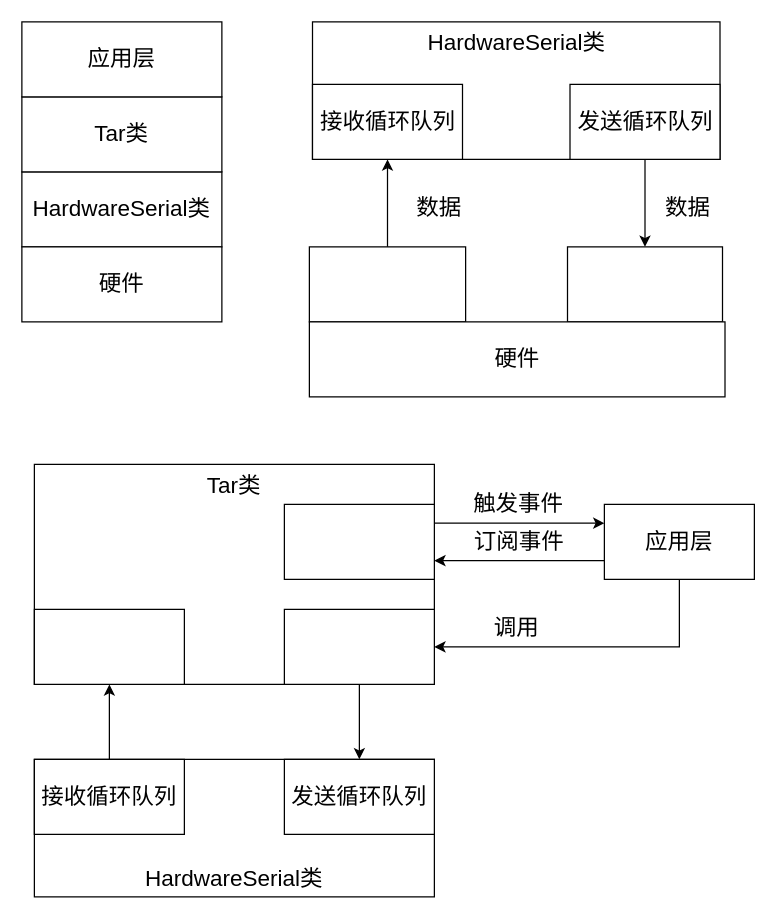
Some shapes in this 776 by 919 pixel diagram are drawn without their labels. Each missing label, with the centre of its shape:
"UART发送中断服务程序" goes at point 644,284.
"UART接收中断服务程序" goes at point 387,284.
"打包程序" goes at point 358,646.
"解包完成事件" goes at point 358,541.
"解包程序" goes at point 108,646.
